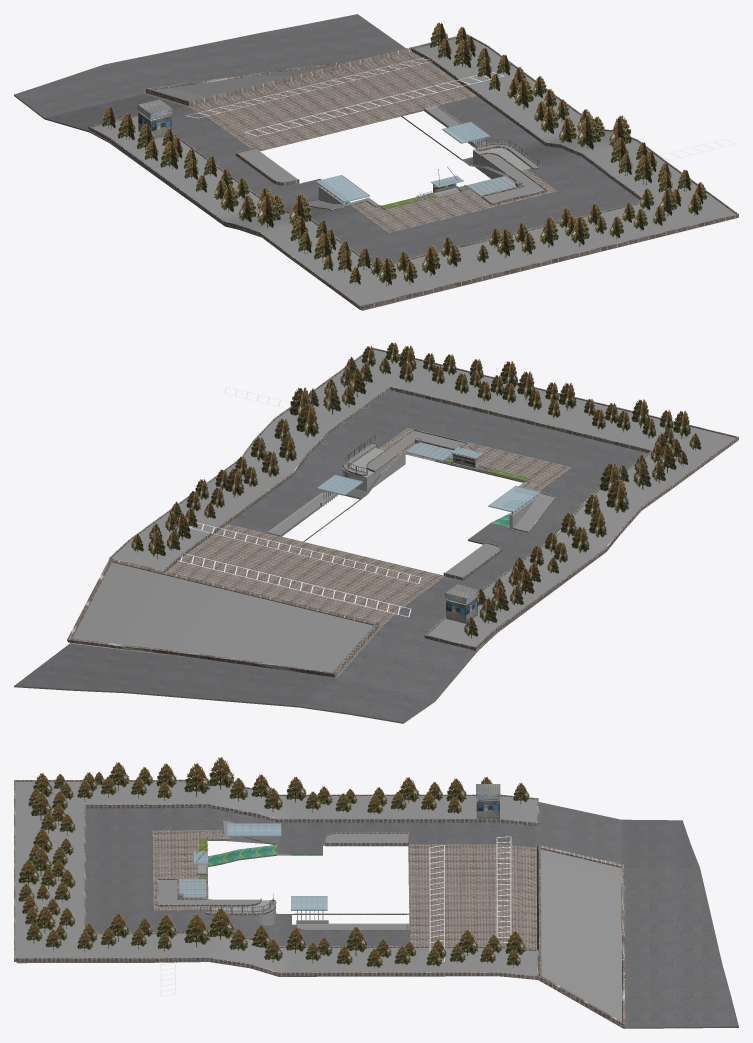
Rendered from YQ-waiwei.FBX.
The picture shows the model from 3 angles, top to bottom: view 1: azimuth 30°, elevation 25°; view 2: azimuth 150°, elevation 25°; view 3: azimuth 270°, elevation 25°; orthographic projection. The views are drawn at different scales.
Parts seen in each view (by area): view 1: YQdimian, YQ-huatan, shu, tcw, chekuA, menweiting, damen, xiapo, chekuB, tianchuang-boli; view 2: YQdimian, YQ-huatan, shu, tcw, menweiting, xiapo, chekuA, damen, chekuB; view 3: YQdimian, YQ-huatan, shu, tcw, chekuA, menweiting, chekuB, xiapo, tianchuang-boli, damen.
Boxes of the visible parts, left/top/right/bottom form: YQdimian: left=14, top=14, right=728, bottom=310; YQ-huatan: left=88, top=34, right=738, bottom=309; shu: left=101, top=22, right=707, bottom=286; tcw: left=186, top=57, right=737, bottom=160; chekuA: left=315, top=175, right=369, bottom=204; menweiting: left=137, top=99, right=172, bottom=138; damen: left=380, top=167, right=469, bottom=209; xiapo: left=473, top=148, right=530, bottom=178; chekuB: left=442, top=121, right=490, bottom=148; tianchuang-boli: left=467, top=176, right=516, bottom=196; YQdimian: left=14, top=390, right=647, bottom=723; YQ-huatan: left=67, top=347, right=738, bottom=677; shu: left=131, top=342, right=701, bottom=638; tcw: left=177, top=386, right=421, bottom=617; menweiting: left=445, top=584, right=478, bottom=623; xiapo: left=342, top=448, right=405, bottom=491; chekuA: left=488, top=485, right=540, bottom=529; damen: left=443, top=444, right=529, bottom=481; chekuB: left=316, top=474, right=362, bottom=506; YQdimian: left=16, top=802, right=738, bottom=1028; YQ-huatan: left=14, top=779, right=625, bottom=1028; shu: left=18, top=757, right=529, bottom=967; tcw: left=160, top=836, right=511, bottom=996; chekuA: left=227, top=823, right=281, bottom=844; menweiting: left=476, top=784, right=500, bottom=818; chekuB: left=291, top=896, right=328, bottom=924; xiapo: left=212, top=900, right=275, bottom=925; tianchuang-boli: left=179, top=879, right=206, bottom=898; damen: left=193, top=838, right=208, bottom=879.
Bounding box in the file's own units: 153846 × 35310 × 220067.
